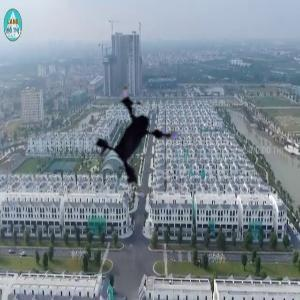drone: (78, 76, 210, 208)
